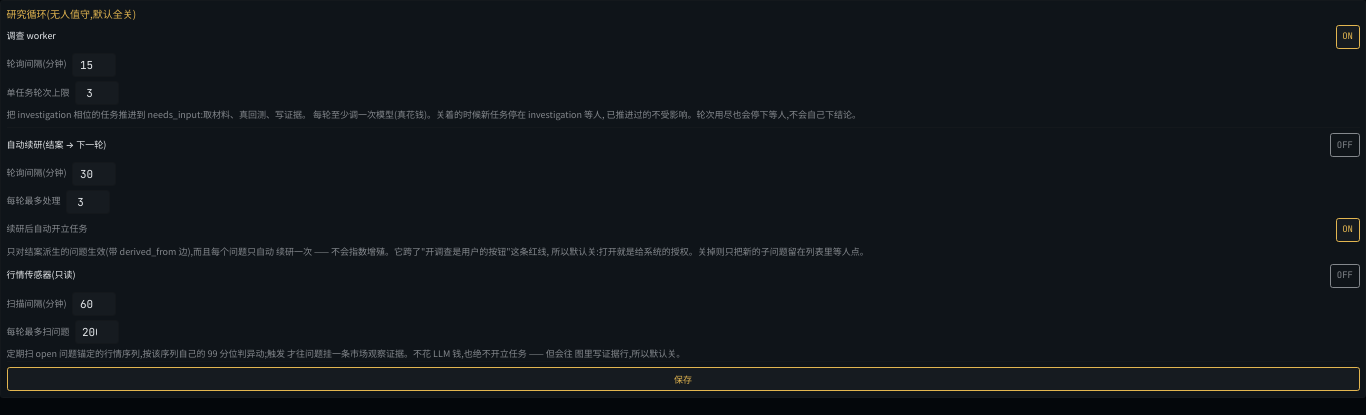
ResearchLoopsPanel › says both loops are stopped when saving with both off
The image size is (1366, 415).
Click the button with aria-label "调查 worker 启用". click: [1348, 37]
box: [1336,25,1360,49]
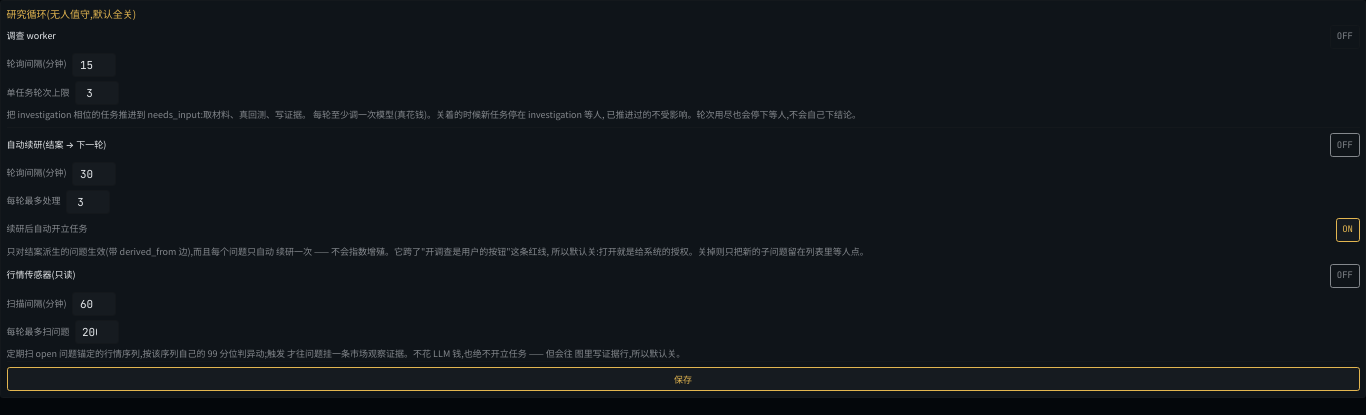
Click the button "保存". click: [683, 379]
box: [6,367,1360,391]
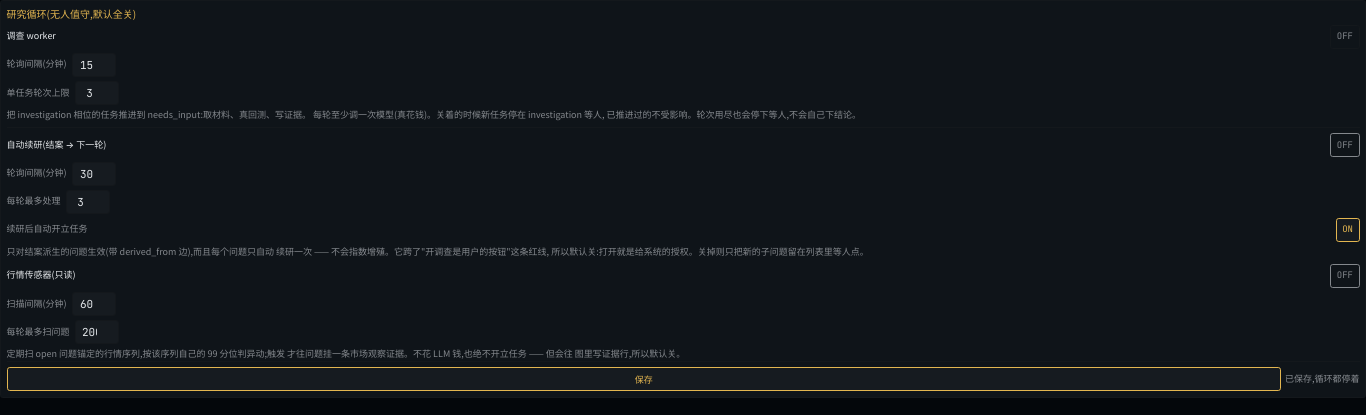
Expected: the text "已保存,循环都停着" is shown, [1285,373,1360,385]
